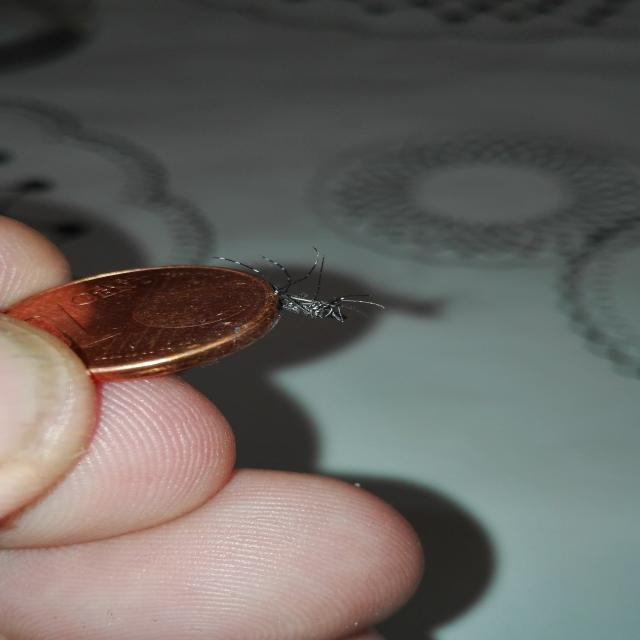albopictus: (198, 243, 381, 329)
